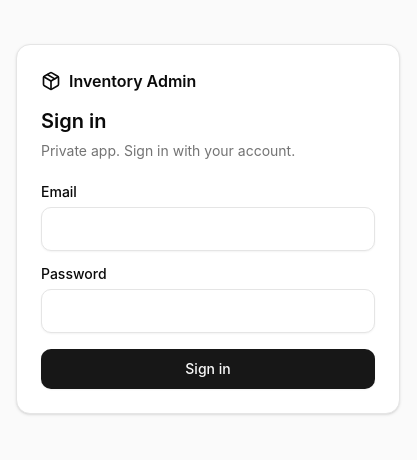
it: authentication flow › validates the form before calling the API
Click the button "Sign in" at (208, 369), box [41,349,375,389]
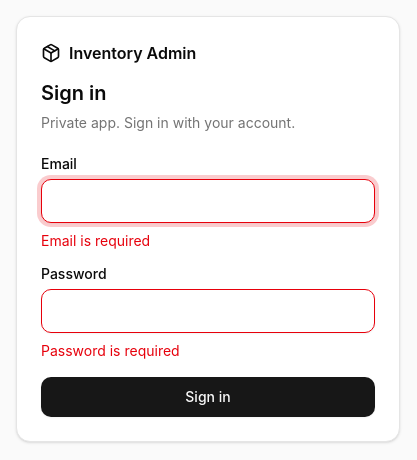
Result: the text "Email is required" is shown at [41,232,150,249]
Result: the text "Password is required" is shown at [41,342,180,359]
